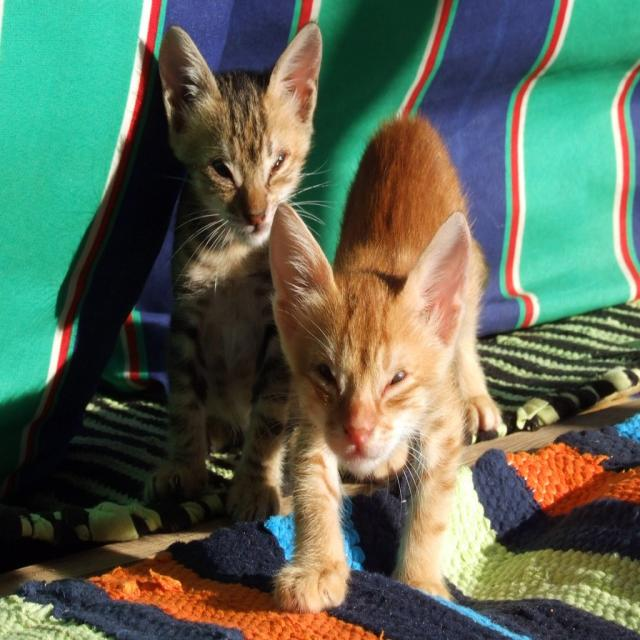Cat: (258, 107, 500, 610), (159, 15, 334, 522)
